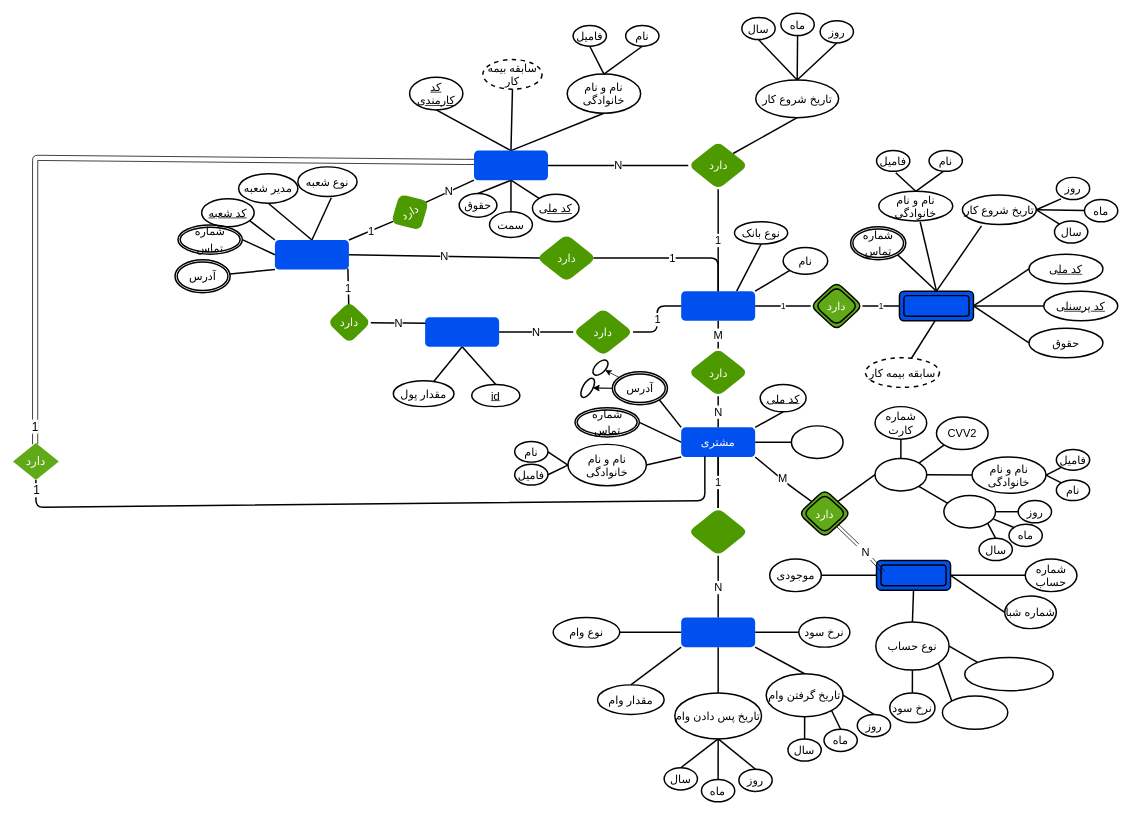
This 1131x815 diagram has some shape labels left out. Each missing label, with the centre of its shape:
"ATM" goes at (x=462, y=331).
"بانک" goes at (x=718, y=305).
"تاریخ انقضا" goes at (x=969, y=511).
"حساب" goes at (x=913, y=575).
"رئیس بانک" goes at (x=936, y=305).
"سقف برداشت" goes at (x=974, y=712).
"شعبه" goes at (x=312, y=254).
"شغل" goes at (x=816, y=442).
"محدودیت انتقال پول" goes at (x=1009, y=673).
"وام" goes at (x=718, y=632).
"کارت بانکی" goes at (x=900, y=474).
"کارمند" goes at (x=511, y=165).
"گرفتن" goes at (x=718, y=531).
